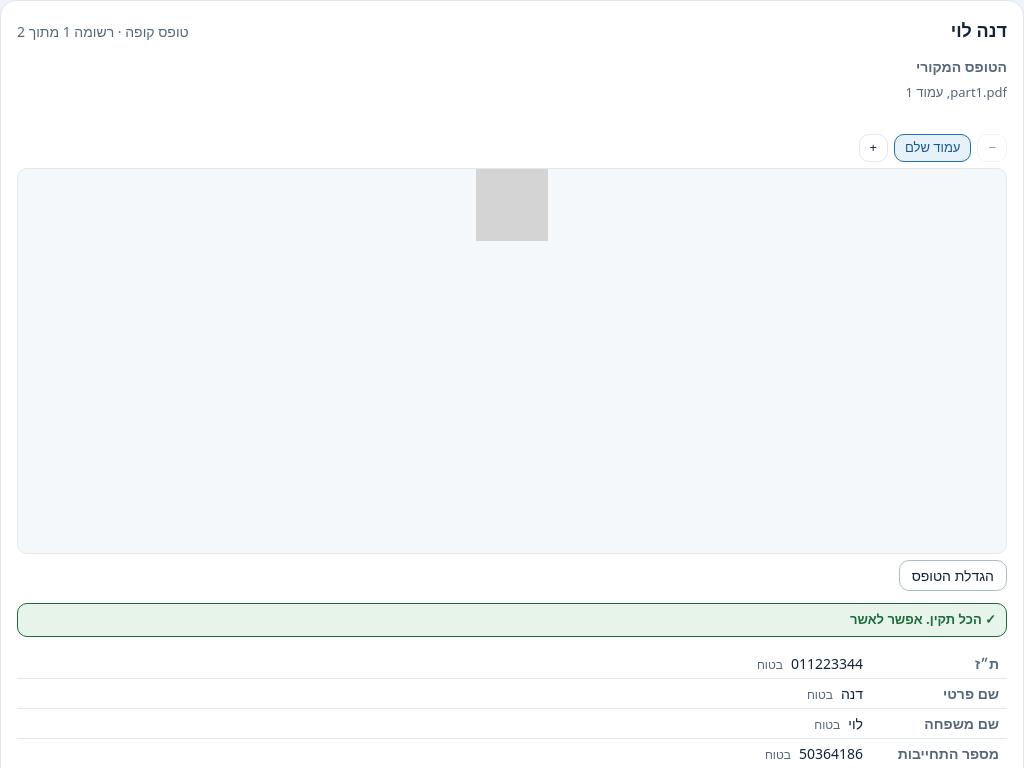
Test: RecordPanel field boxes › a field is boxed once the pointer rests on it, and the next field moves the box
The image size is (1024, 768).
Hover over the row "ת״ז 011223344 בטוח".
mouse_move(512, 663)  # box left=17, top=648, right=1007, bottom=678
Wait 150 ms
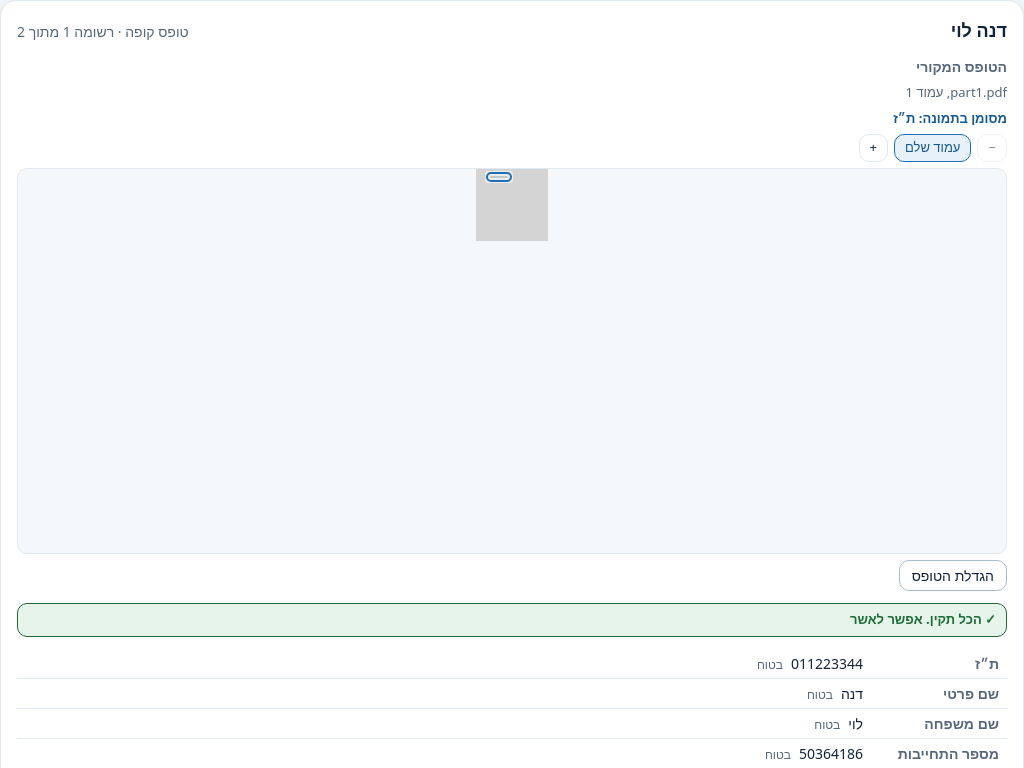
Hover over the row "מספר התחייבות 50364186 בטוח".
mouse_move(512, 753)  # box left=17, top=738, right=1007, bottom=767
Wait 150 ms
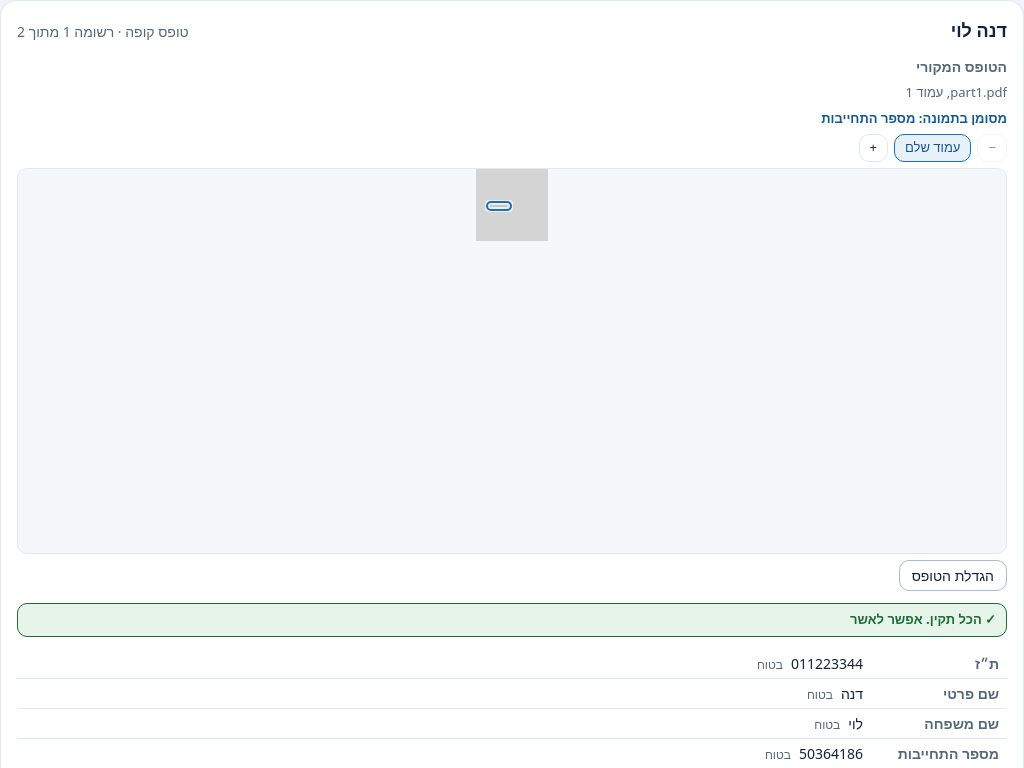
expect the text "מסומן בתמונה: מספר התחייבות" is shown: met, box left=821, top=108, right=1007, bottom=126
